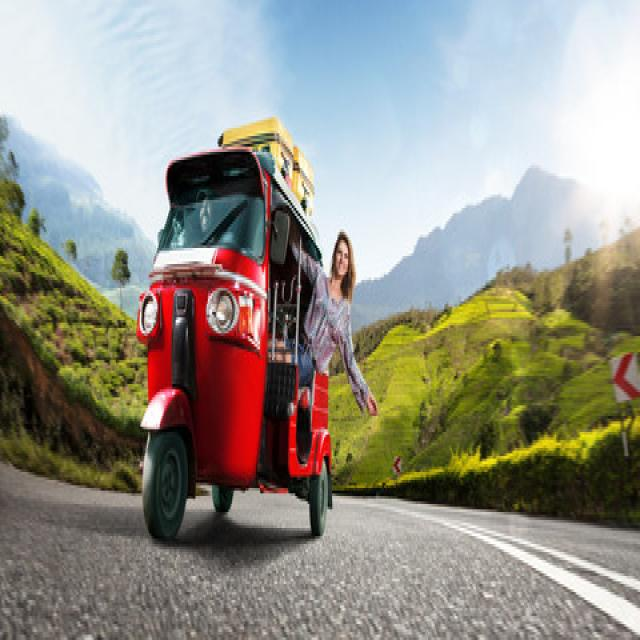person: (293, 232, 376, 416)
three wheeler: (137, 123, 329, 536)
